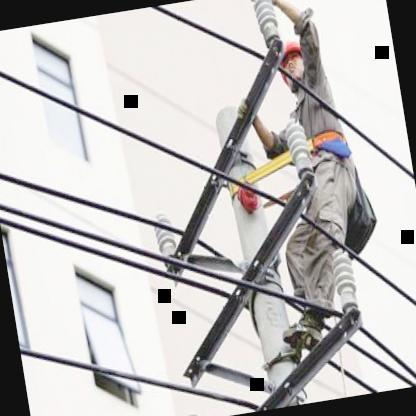helmet: (276, 34, 307, 82)
